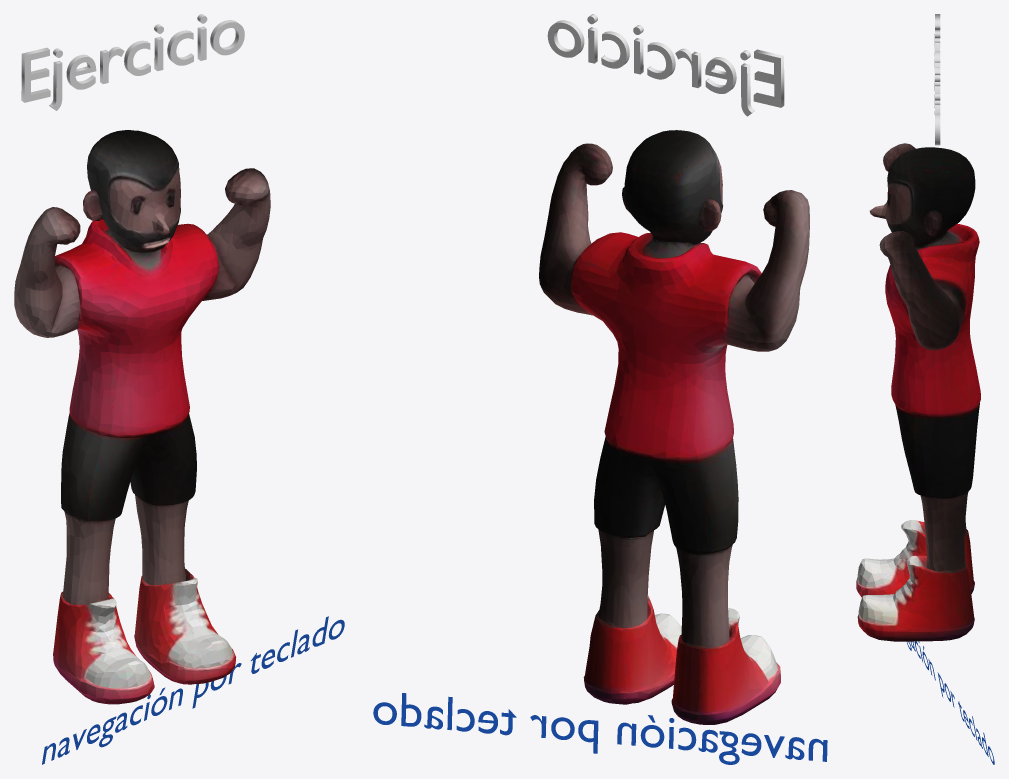
Rendered from Exercise2.glb.
The picture shows the model from 3 angles, left to right: view 1: azimuth 30°, elevation 25°; view 2: azimuth 150°, elevation 25°; view 3: azimuth 270°, elevation 25°; orthographic projection. The views are drawn at different scales.
Visible parts, largest first — view 1: Exercise, Texto, Text; view 2: Exercise, Texto, Text; view 3: Exercise, Texto, Text.
Boxes of the visible parts, x1,y1,x2,y2 form: Exercise: (14,130,270,704); Texto: (21,14,244,110); Text: (42,616,344,764); Exercise: (539,130,809,724); Texto: (547,14,784,116); Text: (373,693,827,764); Exercise: (856,143,980,641); Texto: (934,14,940,145); Text: (907,641,994,764).
Size of the model in its own units: 0.7217 by 1.32 by 0.2711.
Materials: 3 (1 with a texture image).
